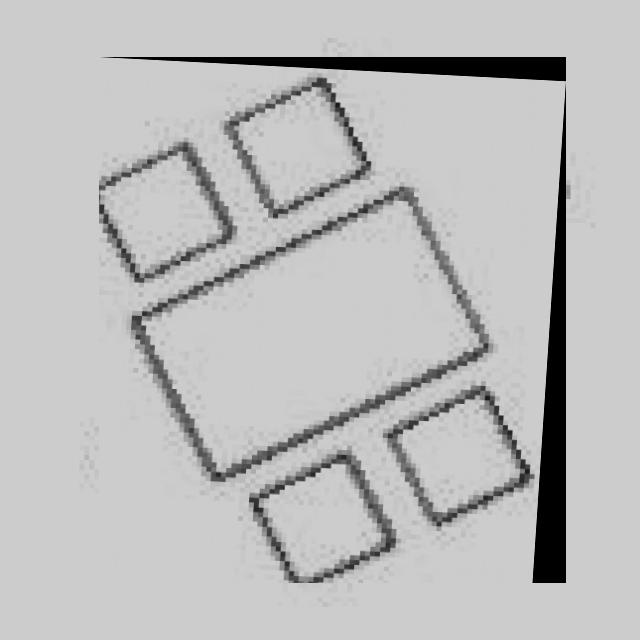table: (99, 57, 566, 583)
